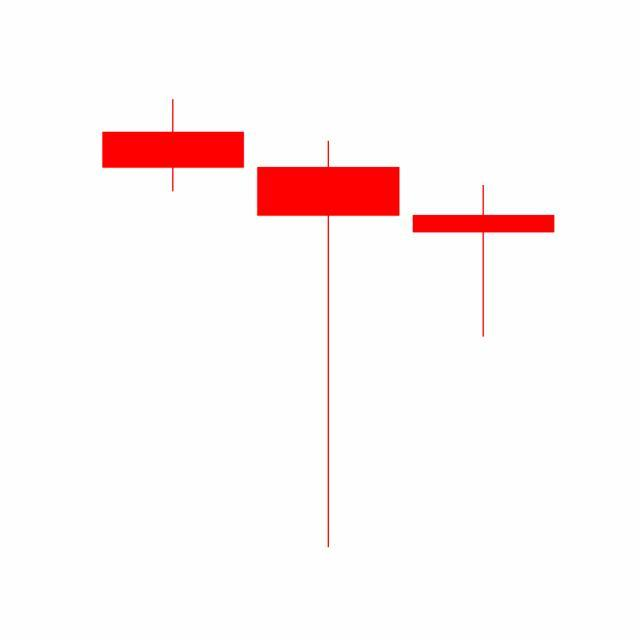Spinning Top: (406, 183, 562, 339)
